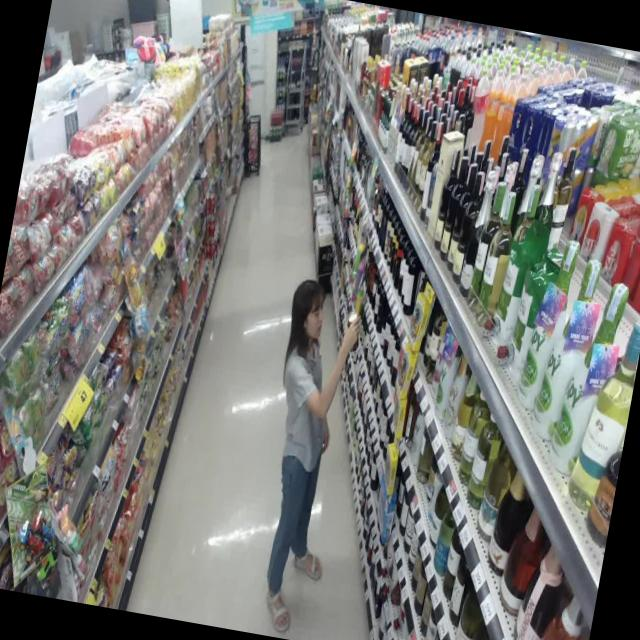pickup: (218, 252, 386, 640)
